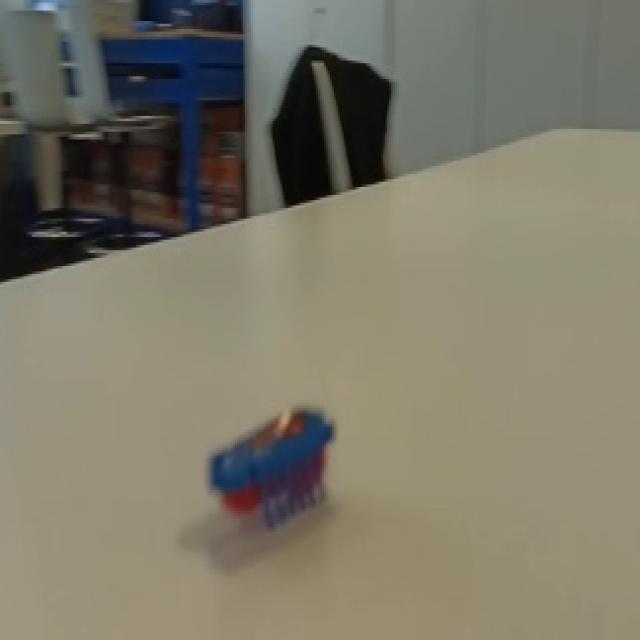1_NanoBug_Azul: (171, 393, 444, 590)
